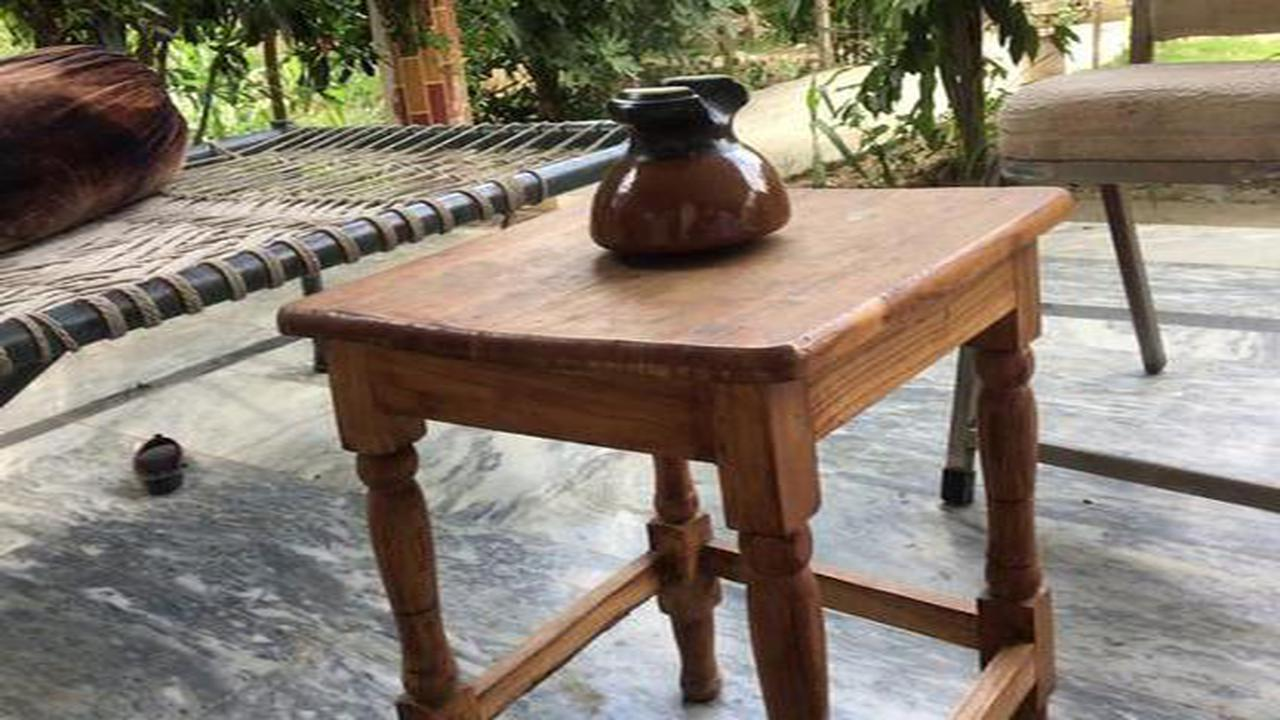insulator_pin: (561, 61, 837, 271)
